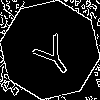Y: (25, 25, 79, 82)
